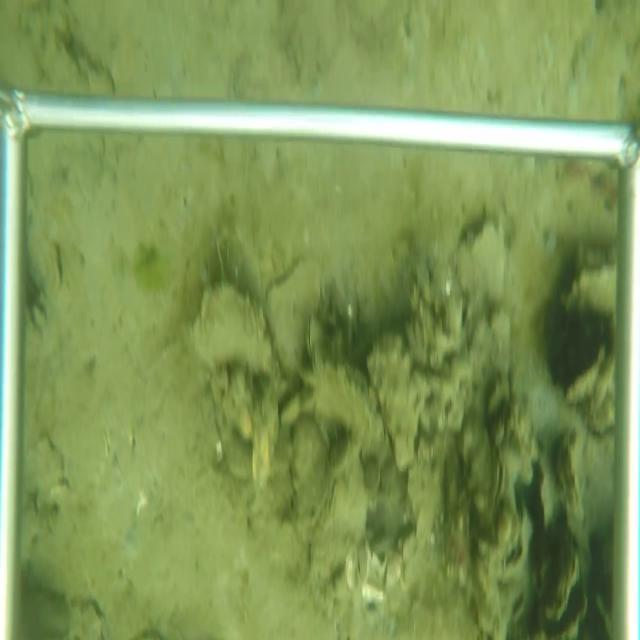Oyster-Closed: (304, 446, 371, 591), (541, 534, 581, 622), (531, 447, 555, 536)
Oyster-Indeterminate: (363, 335, 431, 474), (193, 279, 282, 382), (267, 251, 323, 376), (449, 219, 508, 325)
Oyster-Open: (483, 508, 533, 587), (493, 449, 509, 513)
